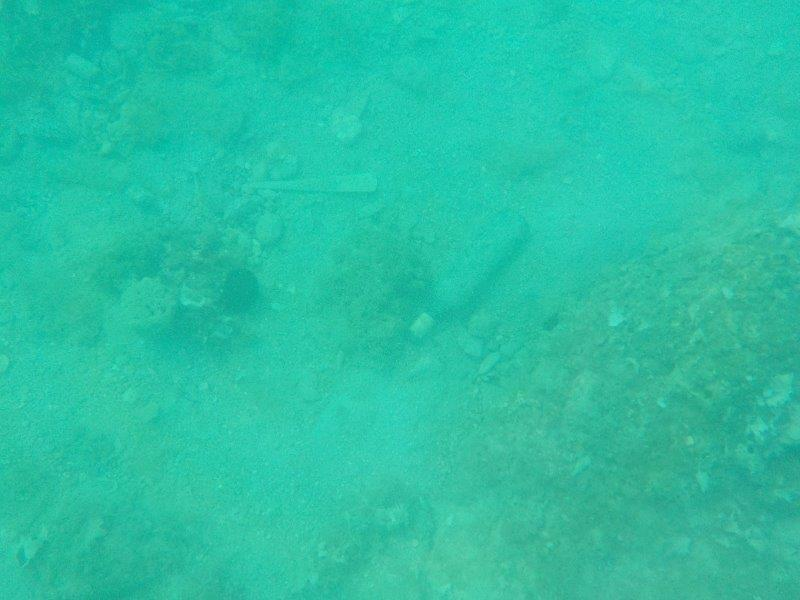bottle: (404, 203, 538, 346)
